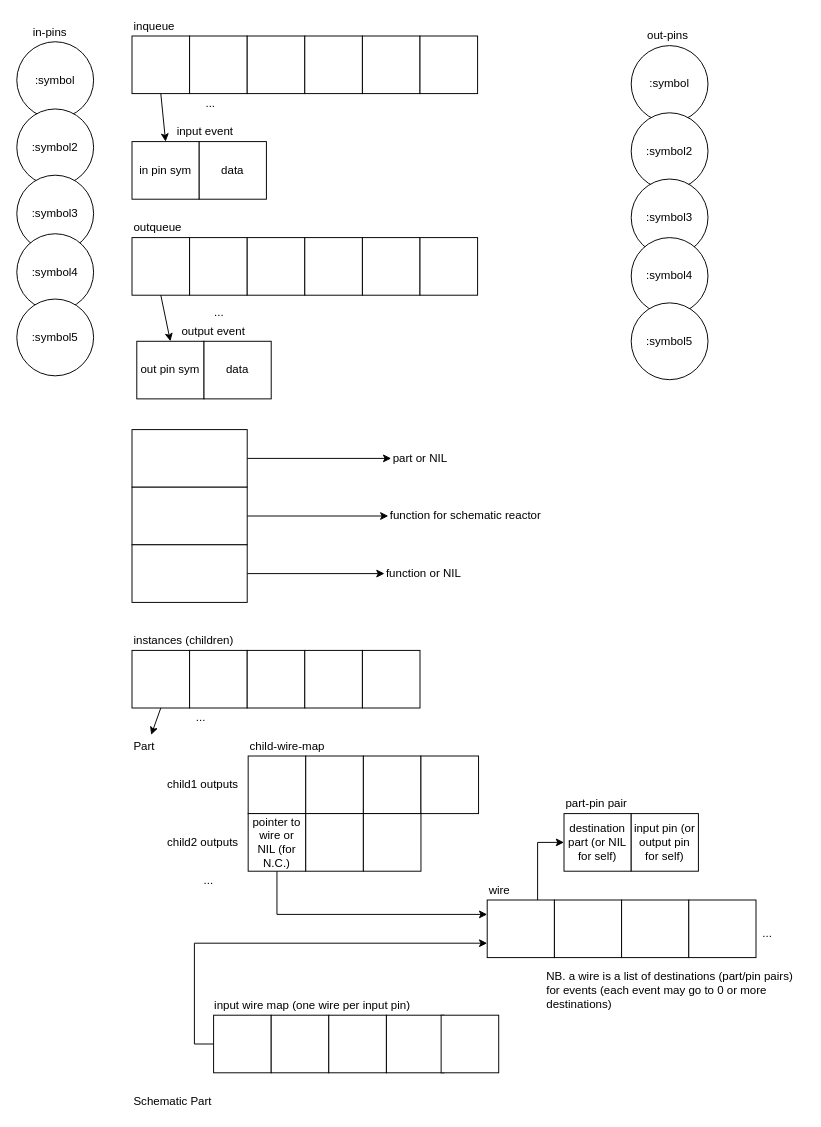
Image size: 821x1127. Some labels were removed from this diagram. Here are the shapes that lost their labels. From the top down, the box of each, then its label:
(131, 429, 247, 487): parent
(131, 486, 247, 545): reactor
(131, 544, 247, 602): first-time
